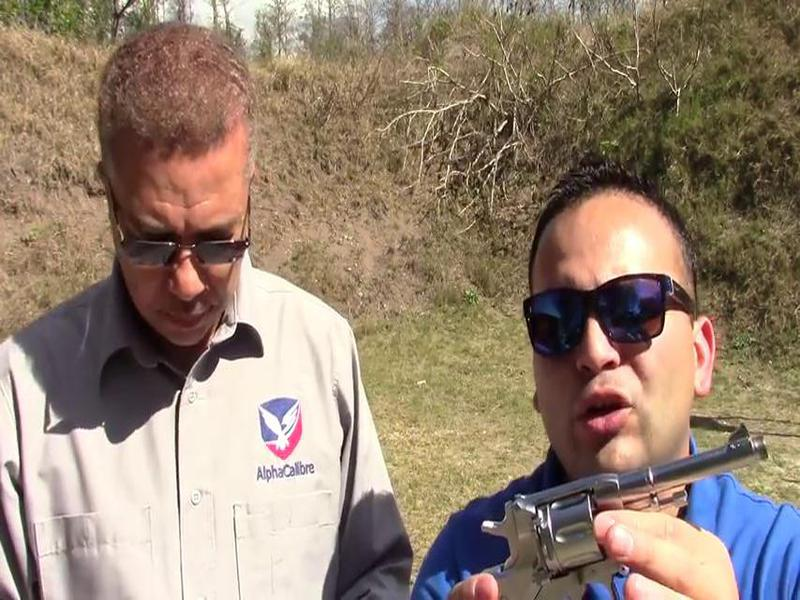Revolver: (469, 420, 766, 600)
